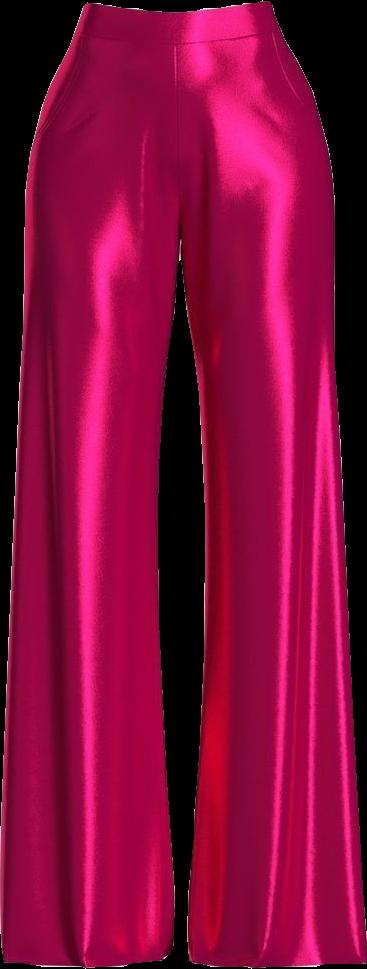Hemline: (1, 944, 173, 968), (191, 952, 366, 968)
Pantleg: (175, 3, 366, 966), (0, 3, 181, 965)
Waistline: (71, 23, 285, 49), (79, 0, 266, 22)
